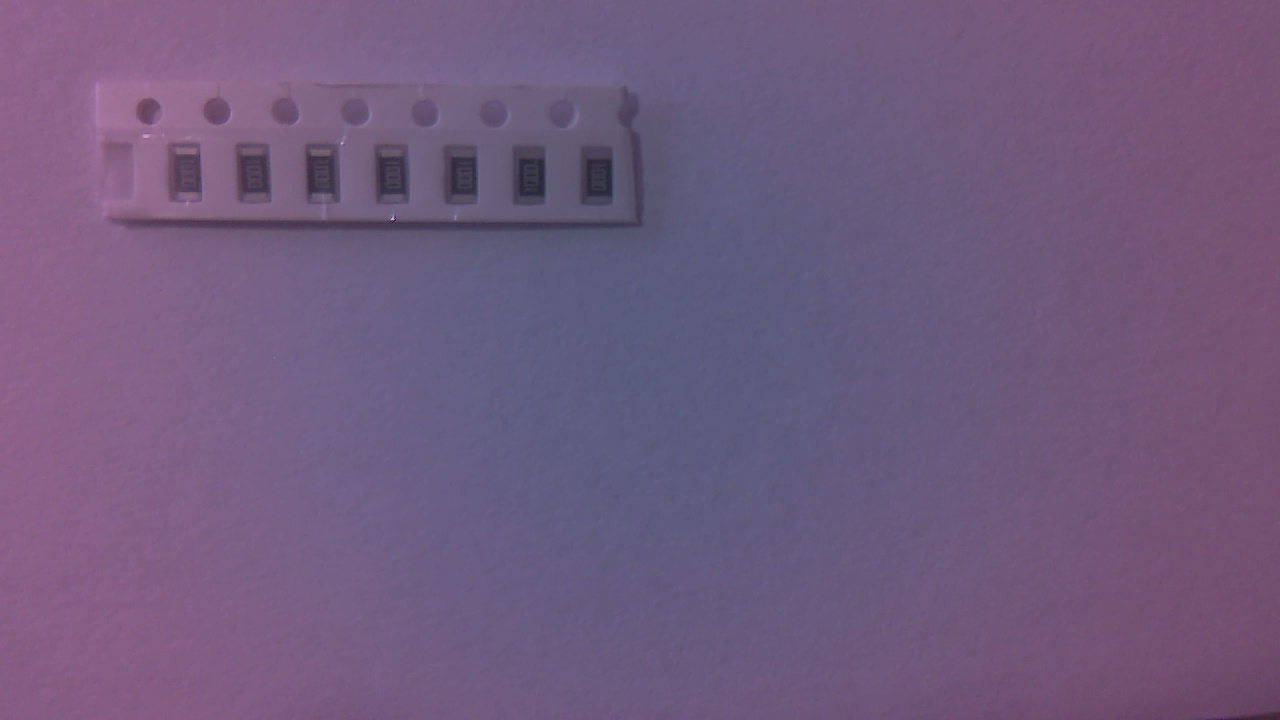Resistor: (380, 148, 415, 211), (241, 149, 277, 209), (308, 146, 344, 205), (450, 149, 484, 211), (174, 147, 208, 208), (516, 152, 552, 208), (588, 152, 622, 209)
